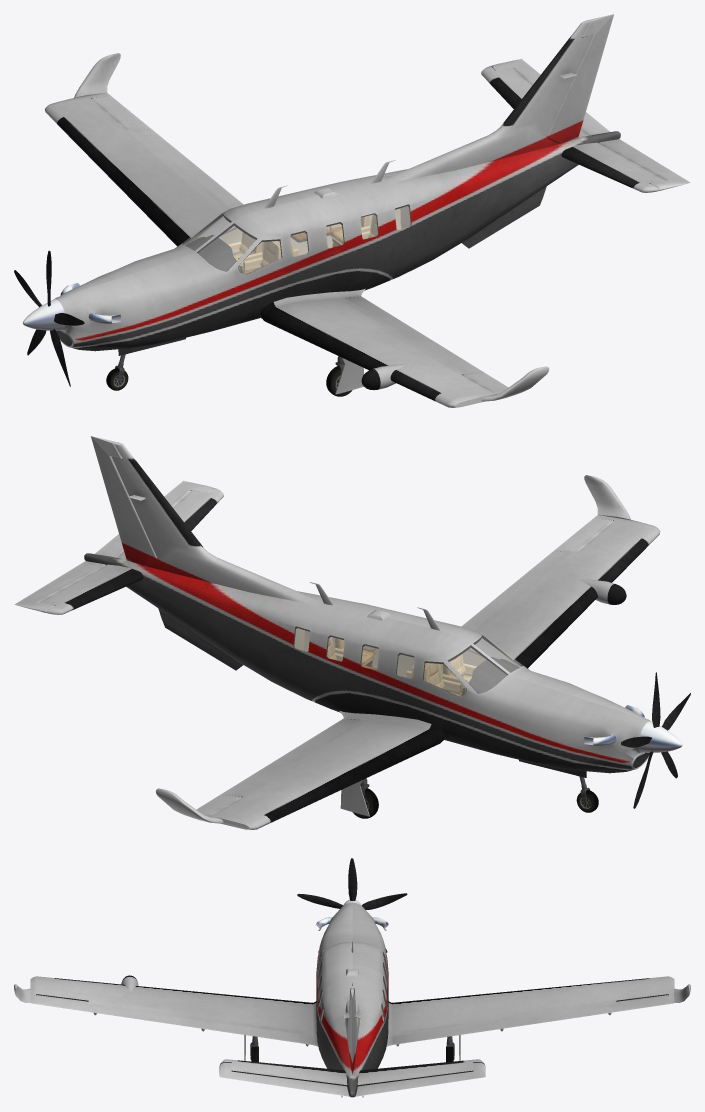
Rendered from tbm9.glb.
The picture shows the model from 3 angles, top to bottom: view 1: azimuth 30°, elevation 25°; view 2: azimuth 150°, elevation 25°; view 3: azimuth 270°, elevation 25°; orthographic projection. The views are drawn at different scales.
Parts seen in each view (by area): view 1: Object_6, Object_5, Object_25, Object_23, Object_14, Object_4; view 2: Object_6, Object_5, Object_25, Object_23, Object_14, Object_4; view 3: Object_6, Object_5, Object_14.
Part boxes in pixels (left/top/right/bottom): Object_6: left=45, top=14, right=690, bottom=407; Object_5: left=14, top=14, right=665, bottom=396; Object_25: left=182, top=204, right=411, bottom=274; Object_23: left=228, top=214, right=377, bottom=274; Object_14: left=182, top=204, right=411, bottom=274; Object_4: left=185, top=235, right=239, bottom=271; Object_6: left=14, top=436, right=660, bottom=829; Object_5: left=39, top=436, right=690, bottom=818; Object_25: left=293, top=626, right=522, bottom=696; Object_23: left=327, top=637, right=476, bottom=696; Object_14: left=293, top=626, right=522, bottom=696; Object_4: left=466, top=657, right=519, bottom=693; Object_6: left=14, top=902, right=690, bottom=1097; Object_5: left=36, top=858, right=668, bottom=1084; Object_14: left=318, top=951, right=386, bottom=1023.
Bounding box in the file's own units: 10.68 × 4.35 × 13.32.
20 materials, 18 textured.
